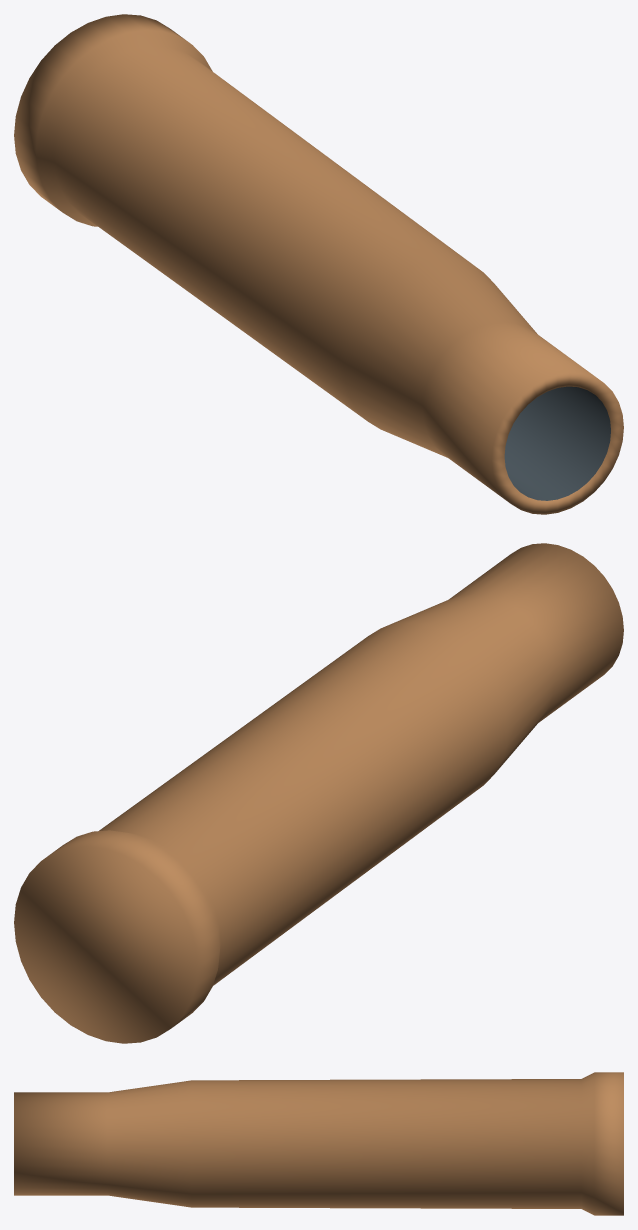
File: rotor_heavy_case_display.glb
The picture shows the model from 3 angles, top to bottom: view 1: azimuth 30°, elevation 25°; view 2: azimuth 150°, elevation 25°; view 3: azimuth 270°, elevation 25°; orthographic projection. The views are drawn at different scales.
Visible parts, largest first — view 1: AMMO_MESH.011; view 2: AMMO_MESH.011; view 3: AMMO_MESH.011.
Boxes of the visible parts, x1,y1,x2,y2 form: AMMO_MESH.011: [14, 14, 623, 514]; AMMO_MESH.011: [14, 543, 623, 1043]; AMMO_MESH.011: [14, 1072, 623, 1215].
Bounding box in the file's own units: 0.012 × 0.012 × 0.0511.
